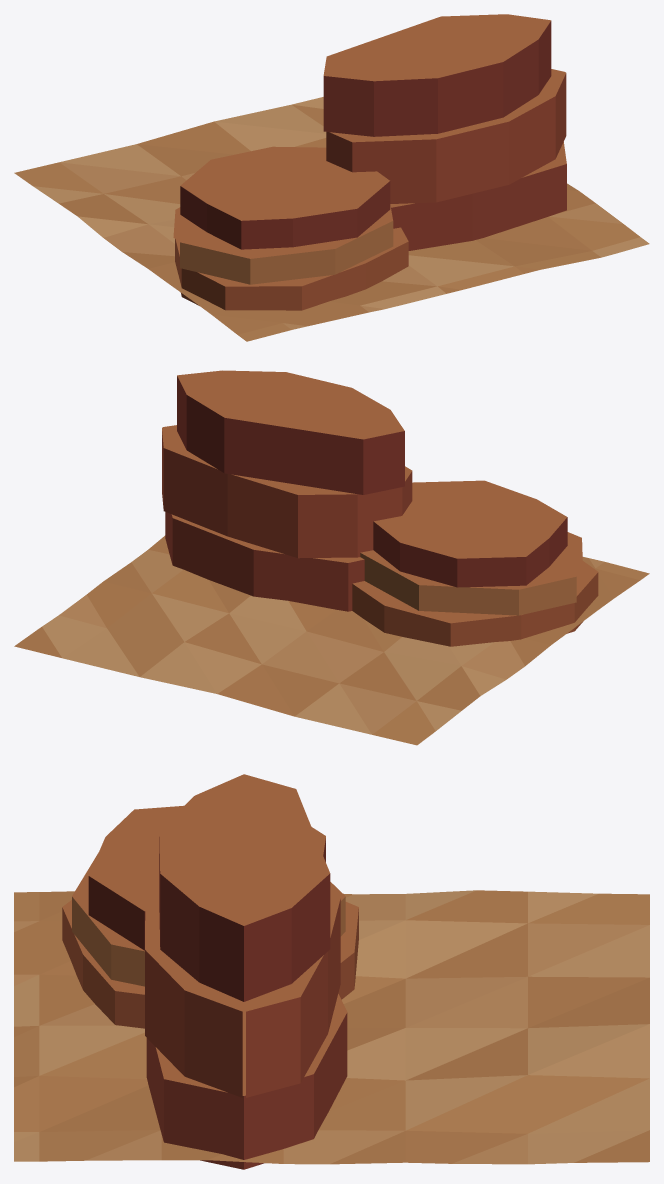
The picture shows the model from 3 angles, top to bottom: view 1: azimuth 30°, elevation 25°; view 2: azimuth 150°, elevation 25°; view 3: azimuth 270°, elevation 25°; orthographic projection. The views are drawn at different scales.
Parts seen in each view (by area): view 1: baked; view 2: baked; view 3: baked.
Part boxes in pixels (x1,y1,x2,y2): baked: [14, 14, 649, 341]; baked: [14, 370, 649, 745]; baked: [14, 774, 649, 1169].
Size of the model in its own units: 62.5 by 25.59 by 62.5.
